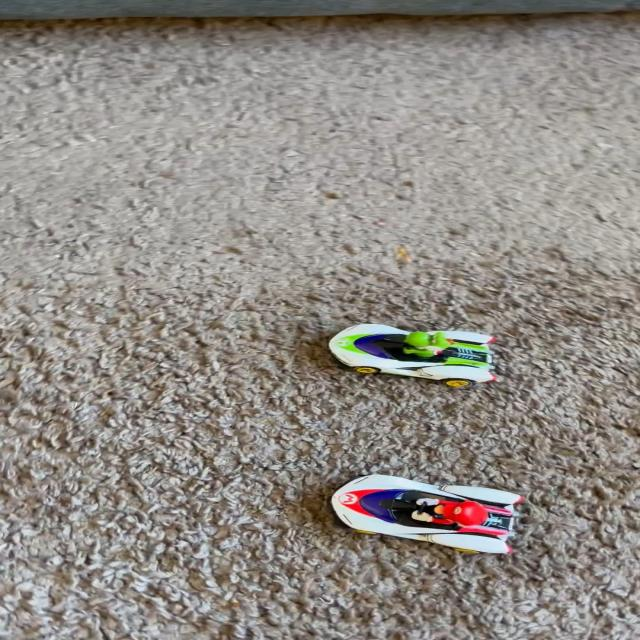mario: (318, 466, 544, 560)
yoshi: (320, 303, 511, 391)
